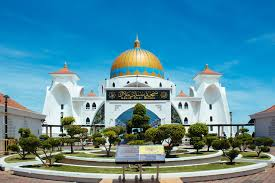Mosque: (40, 33, 237, 141)
